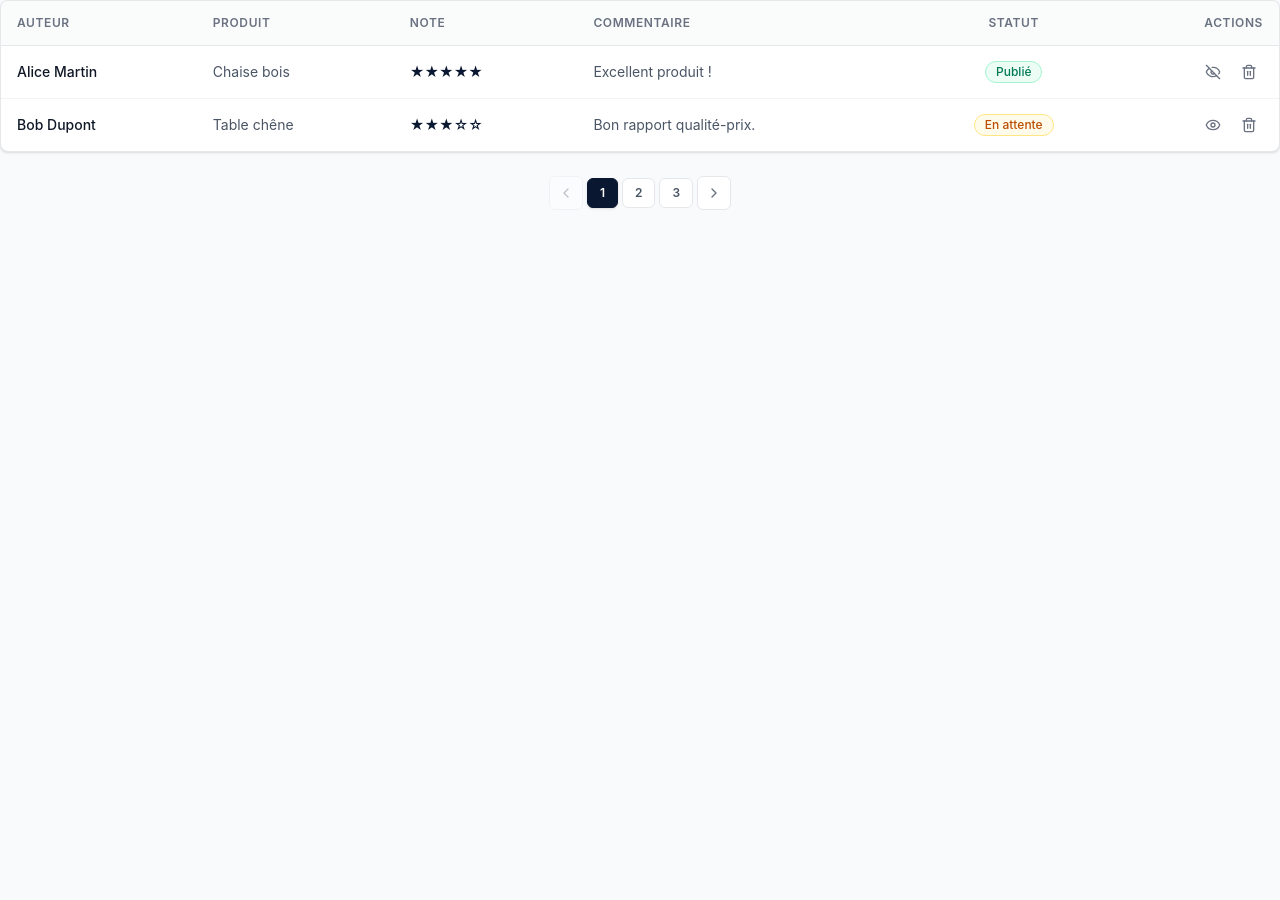
AdminReviewTable — suppression › ferme la modale au clic sur Annuler
The width and height of the screenshot is (1280, 900).
What coordinates should you click on to do the following:
click the button named "supprimer l'avis de alice martin"
I would click on:
 (1249, 72)
Its box is left=1235, top=58, right=1263, bottom=86.
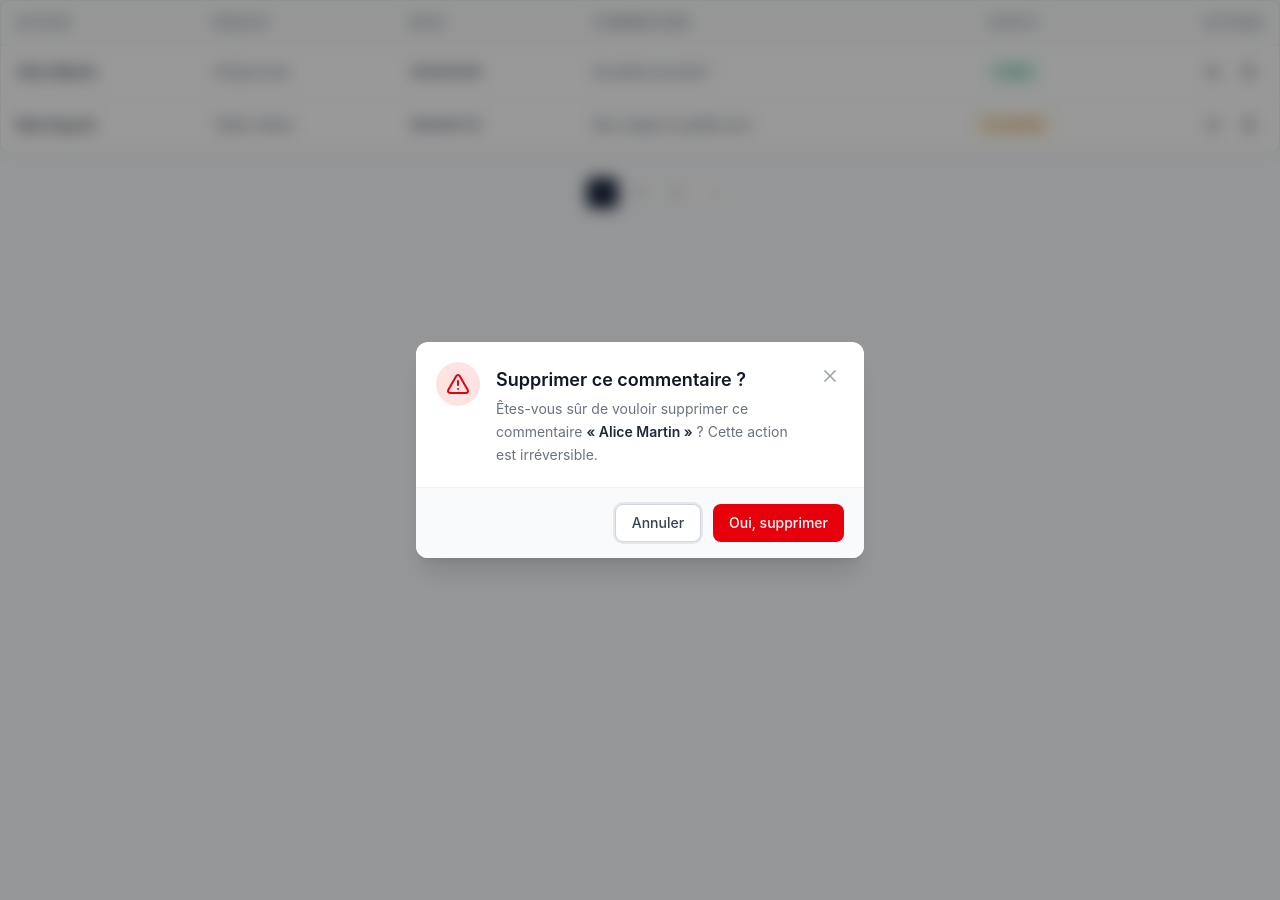
What coordinates should you click on to do the following:
click the button "Annuler"
I would click on:
 (658, 523)
Its box is left=615, top=504, right=701, bottom=542.
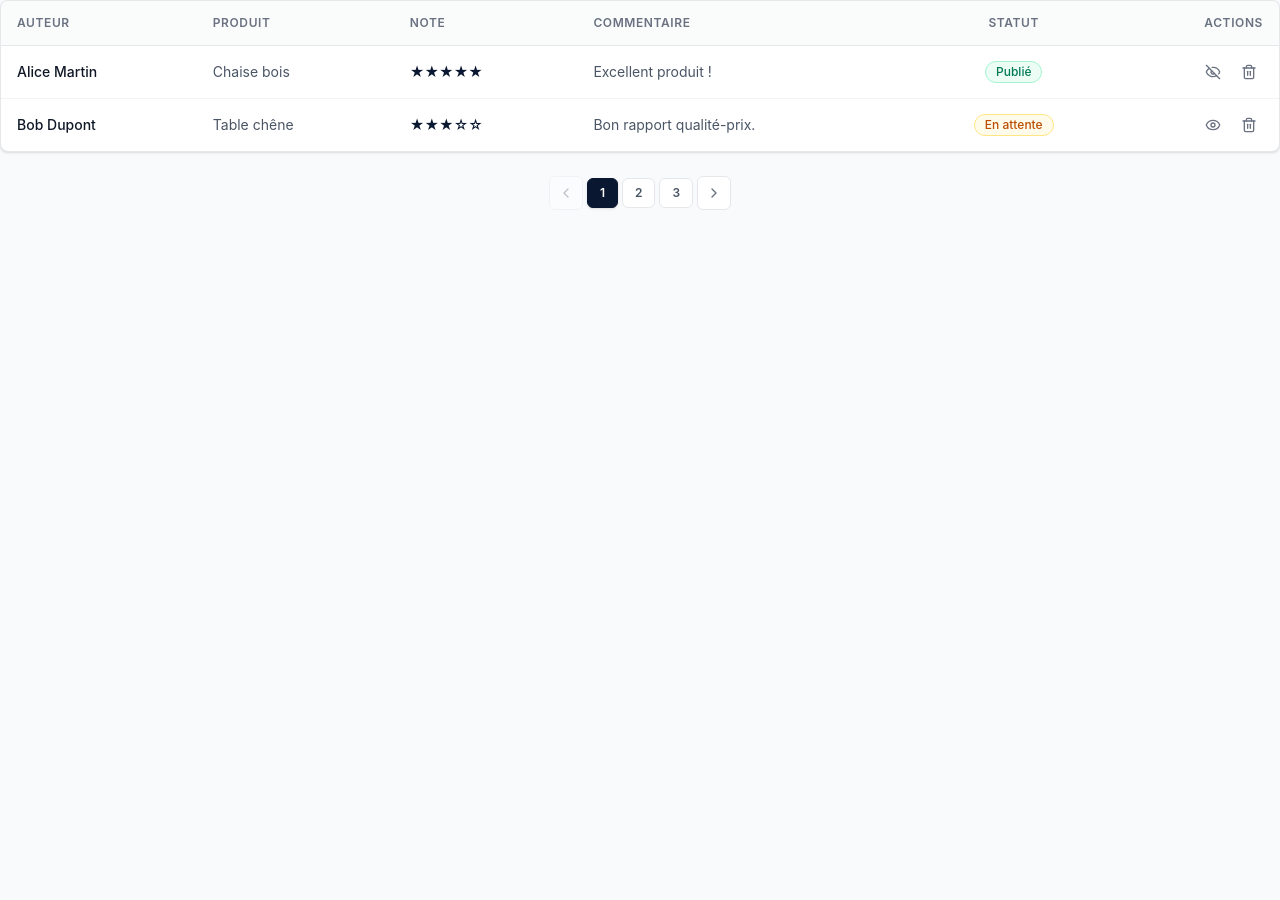
Result: the dialog is gone
